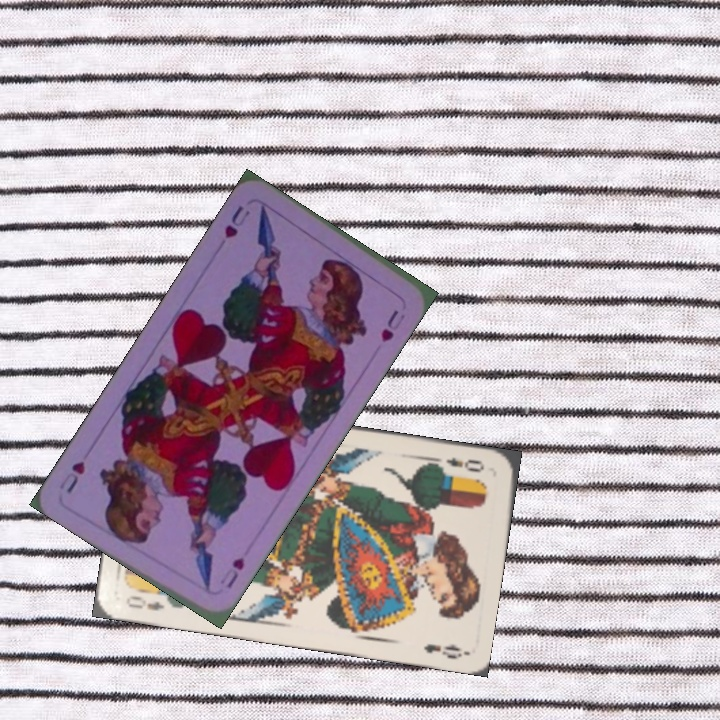EO: (122, 591, 167, 614), (442, 454, 487, 475)
HU: (220, 201, 253, 242), (215, 553, 247, 591)
